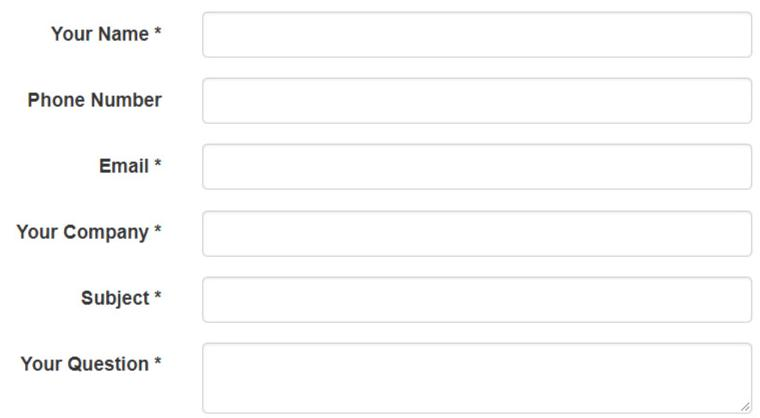field: (197, 341, 756, 415), (199, 208, 757, 260), (199, 8, 754, 60), (198, 274, 757, 325), (199, 141, 755, 191), (198, 77, 753, 127)
field_with_label: (21, 339, 758, 416), (18, 205, 758, 263), (51, 4, 756, 63), (30, 75, 757, 130), (79, 272, 759, 328), (98, 139, 757, 193)
